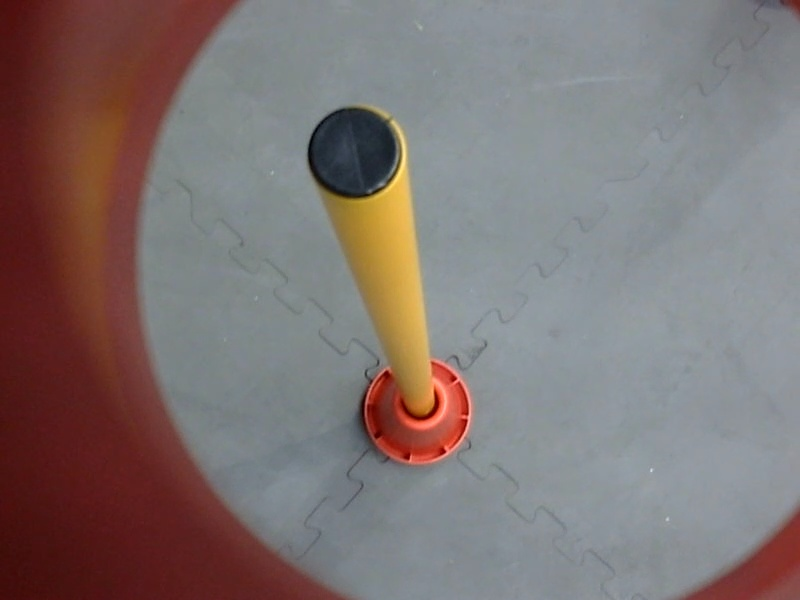tip: (292, 91, 410, 207)
